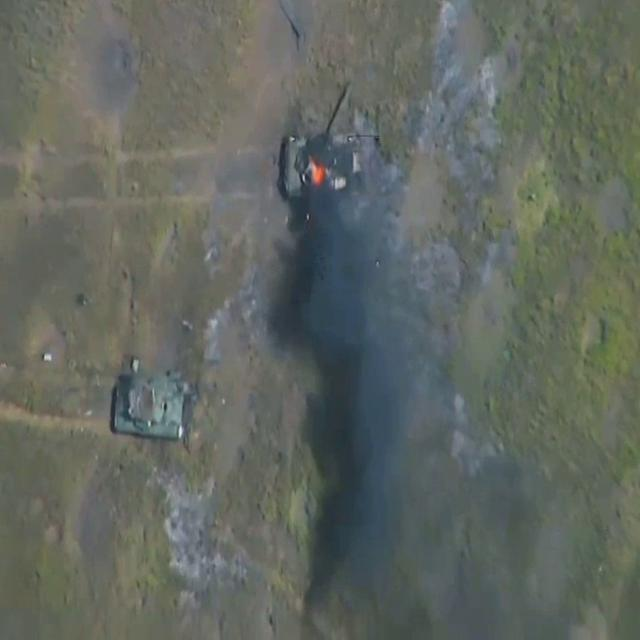MBT: (279, 84, 367, 208), (114, 371, 215, 443)
